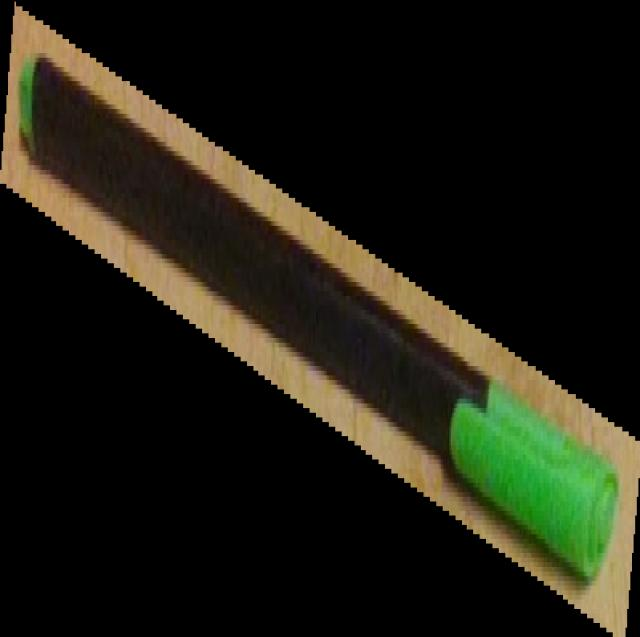green: (0, 0, 640, 637)
